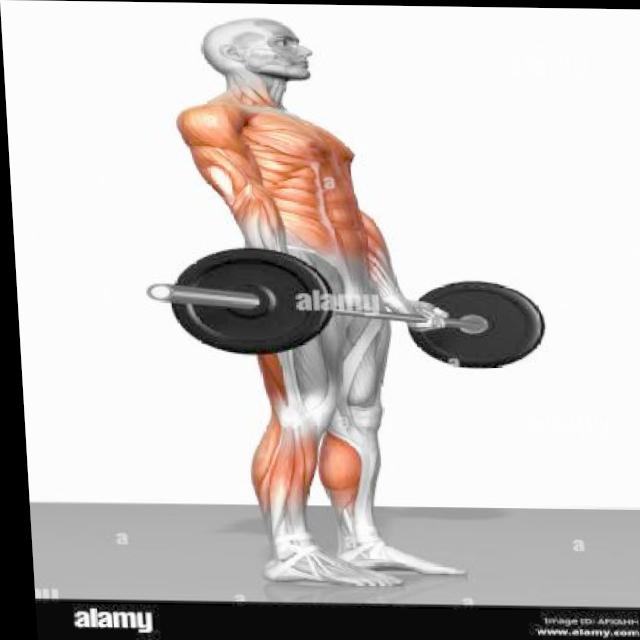barbell: (134, 242, 332, 362)
